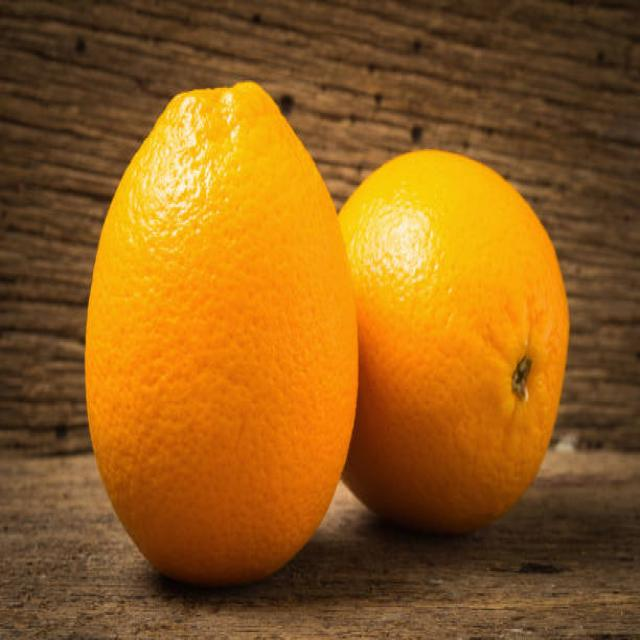Good_Orange: (85, 83, 359, 590), (337, 149, 570, 538)
